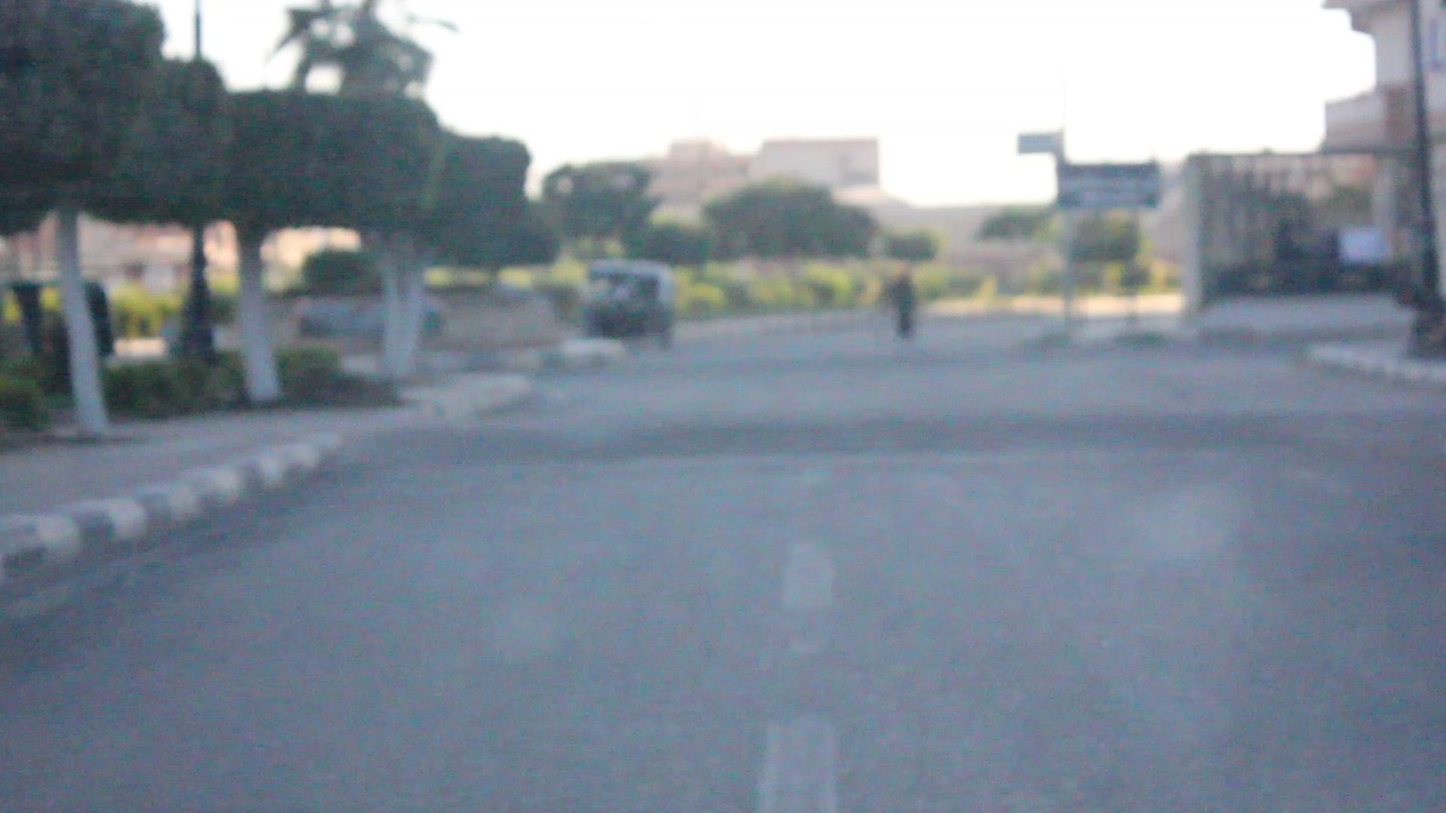Bump: (365, 401, 1446, 450)
